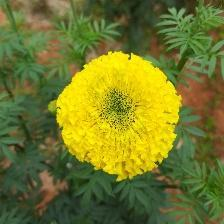marigold: (57, 51, 184, 182)
